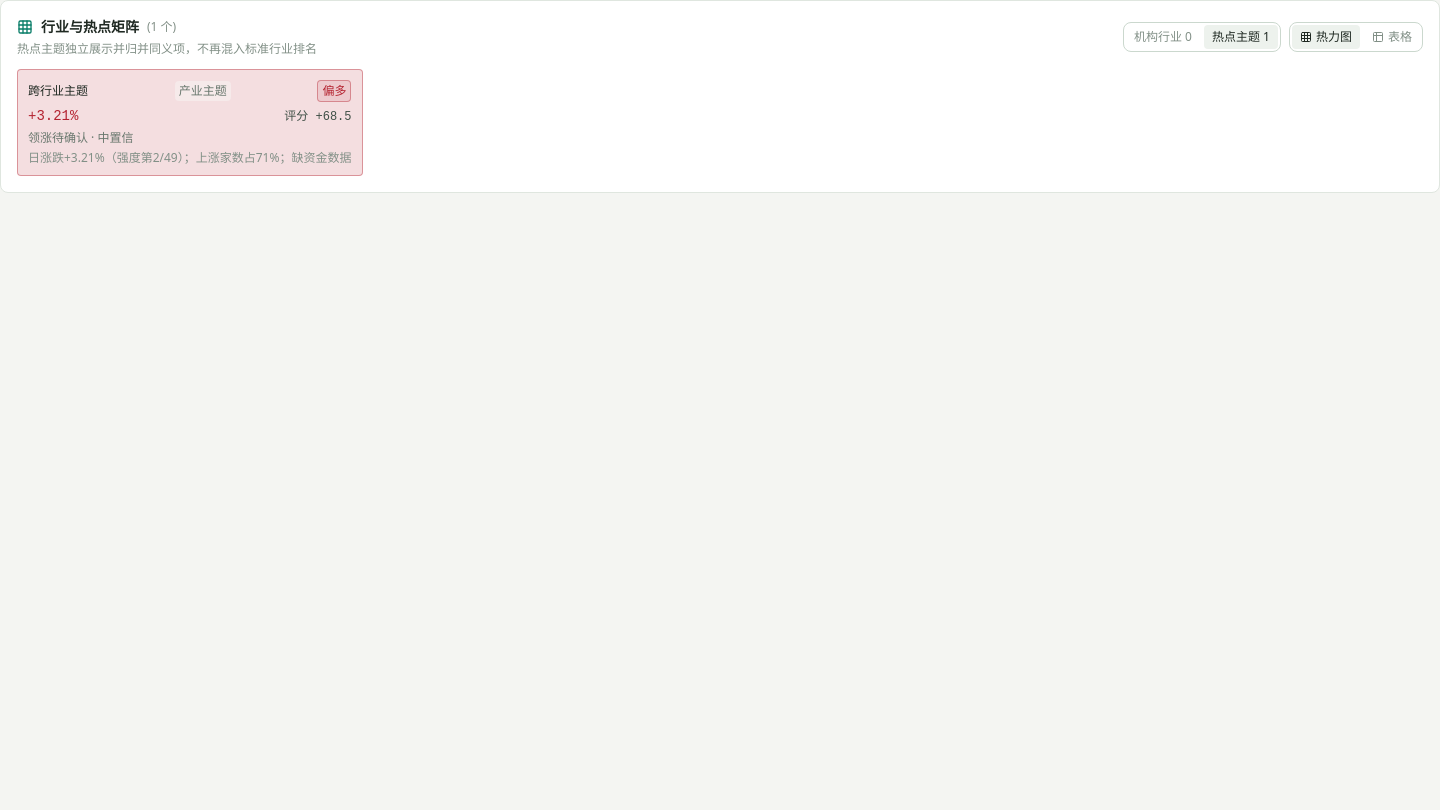
it: IndustryMatrix multi-factor stance › disables stock selection when a concept has no reliable MCP mapping
Click the button "跨行业主题" at (58, 90), box left=17, top=69, right=362, bottom=176
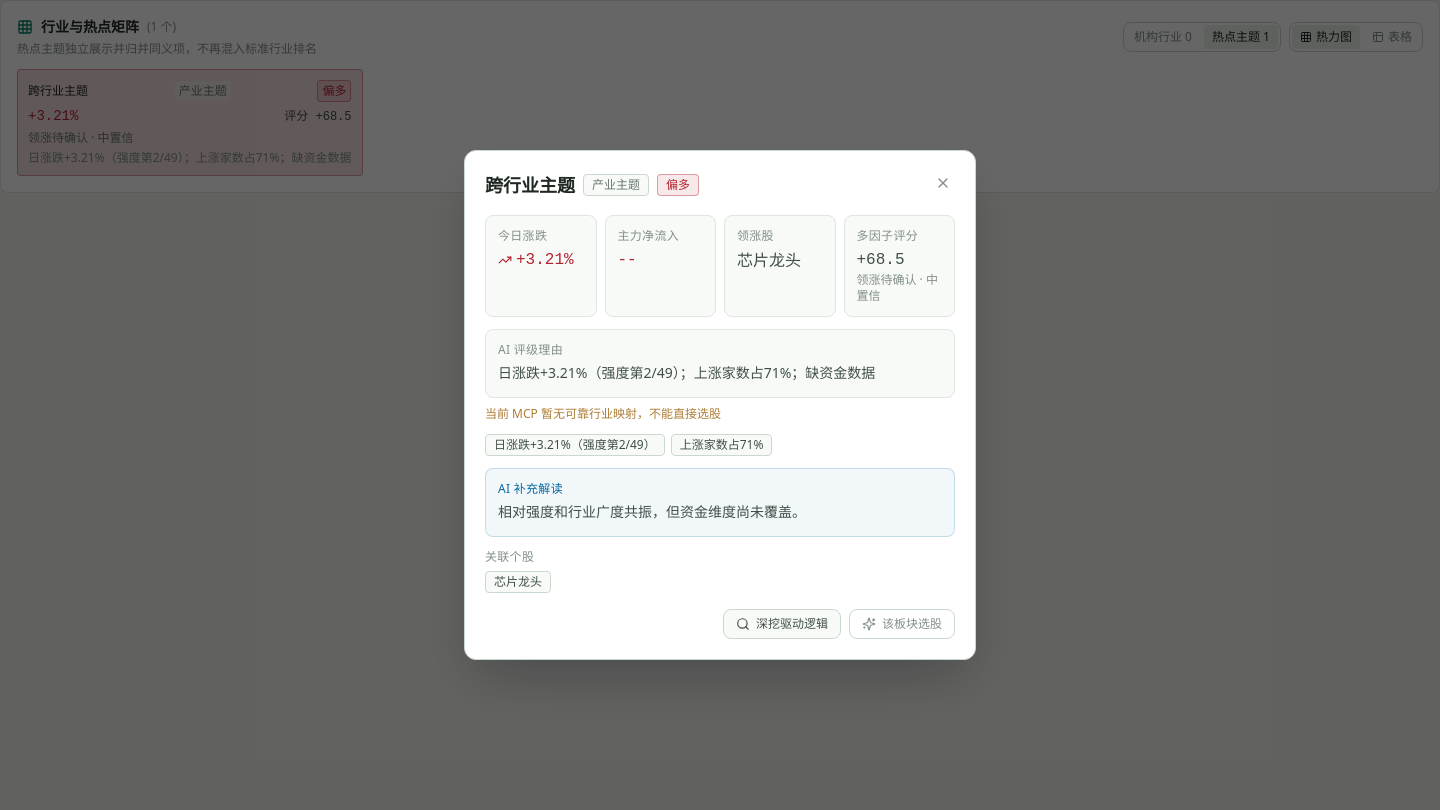
Check: the text "当前 MCP 暂无可靠行业映射，不能直接选股" is shown, box left=485, top=405, right=721, bottom=422
Check: the button "该板块选股" is disabled, box left=849, top=609, right=955, bottom=639
